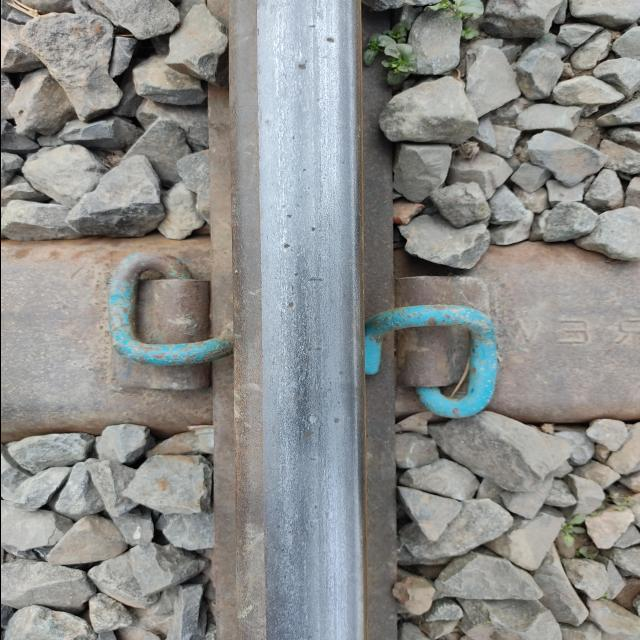squats_high: (294, 22, 336, 73), (278, 212, 320, 252), (284, 275, 325, 313)
